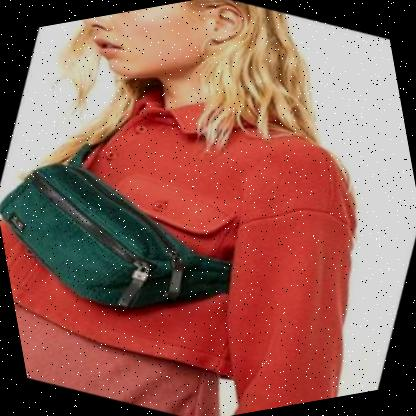bag: (0, 123, 243, 338)
